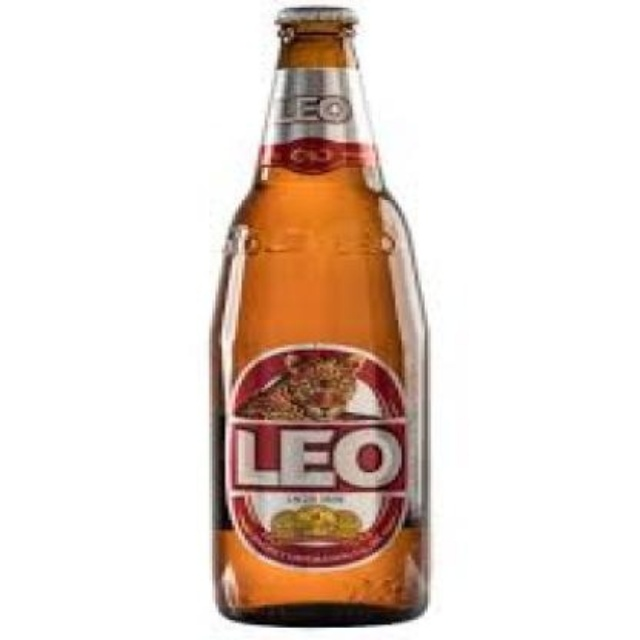trash: (212, 6, 426, 623)
